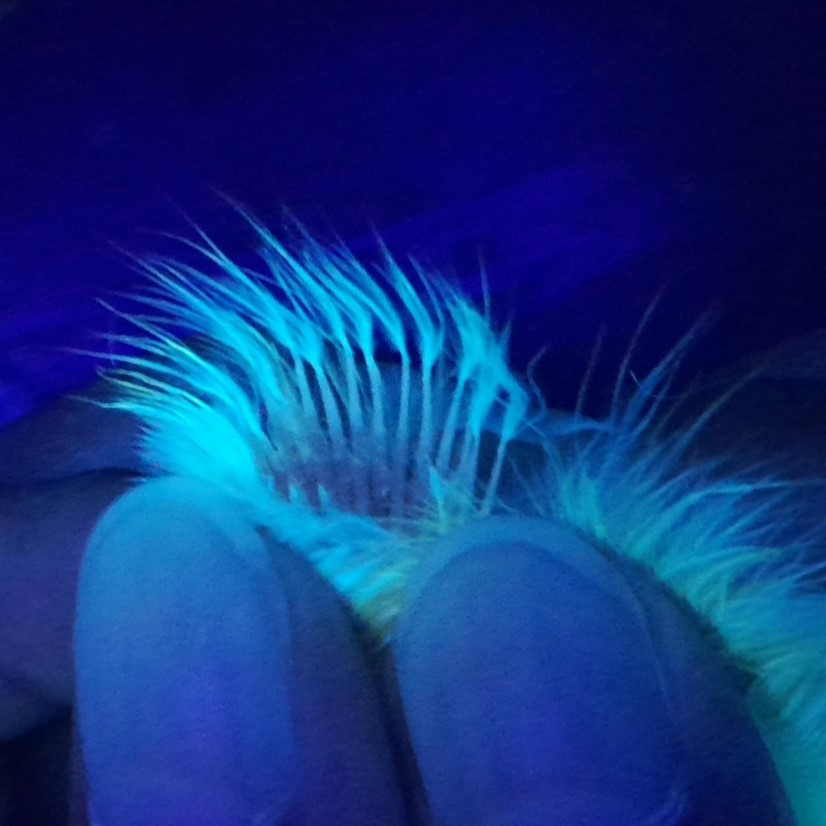male: (224, 328, 519, 568)
